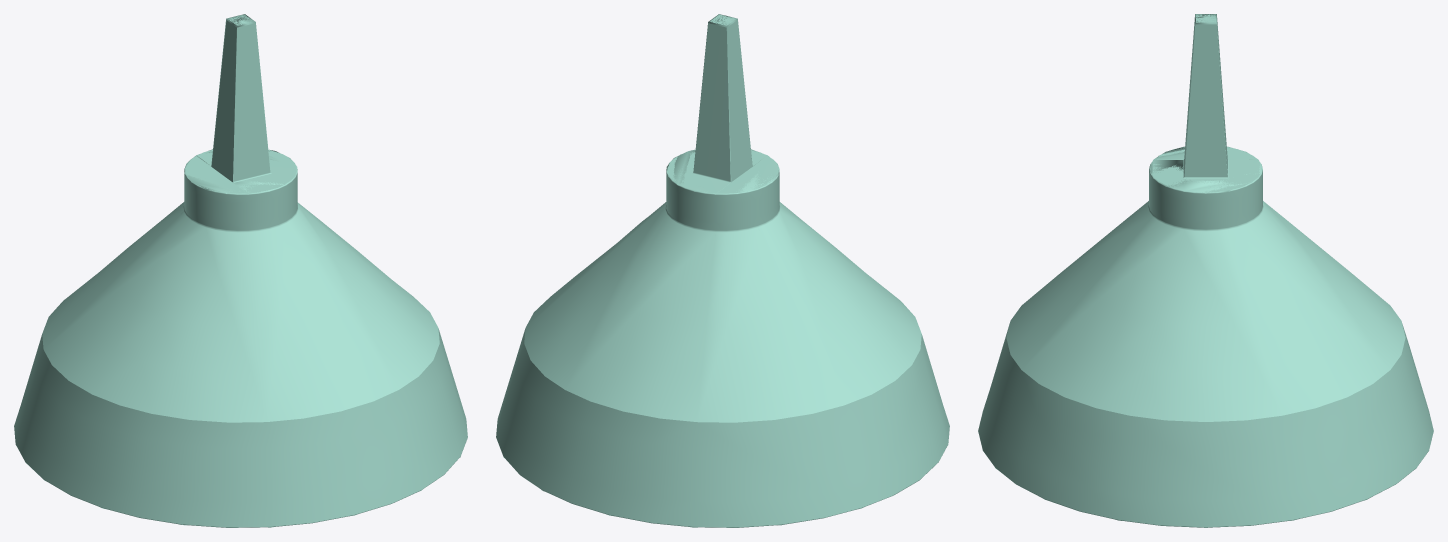
File: space-kit__rocket_topB.glb
3 renders of one model, left to right at view 1: azimuth 30°, elevation 25°; view 2: azimuth 150°, elevation 25°; view 3: azimuth 270°, elevation 25°, orthographic.
Visible parts, largest first — view 1: L0_accent, L1_accent; view 2: L0_accent, L1_accent; view 3: L0_accent, L1_accent.
Part boxes in pixels (<box>): L0_accent: <box>14,14,467,527</box>; L1_accent: <box>44,14,460,527</box>; L0_accent: <box>496,14,949,527</box>; L1_accent: <box>503,14,920,527</box>; L0_accent: <box>978,14,1433,527</box>; L1_accent: <box>995,14,1416,527</box>.
Size of the model in its own units: 1 by 1 by 1.
